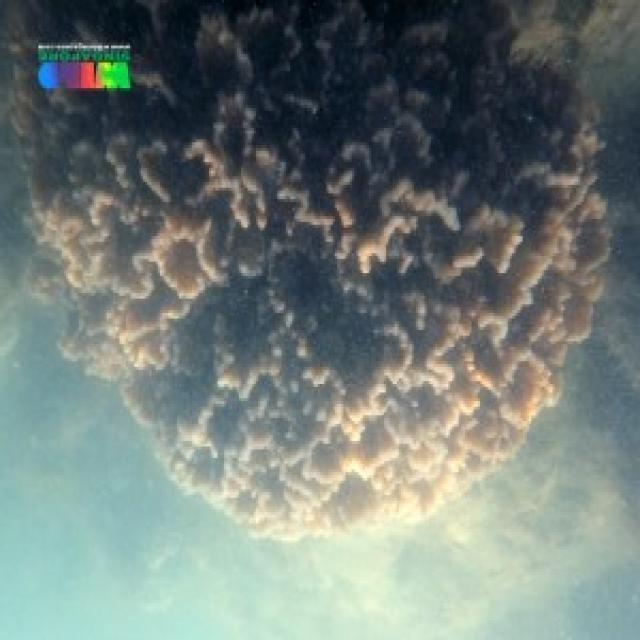Healthy: (1, 1, 607, 530)
